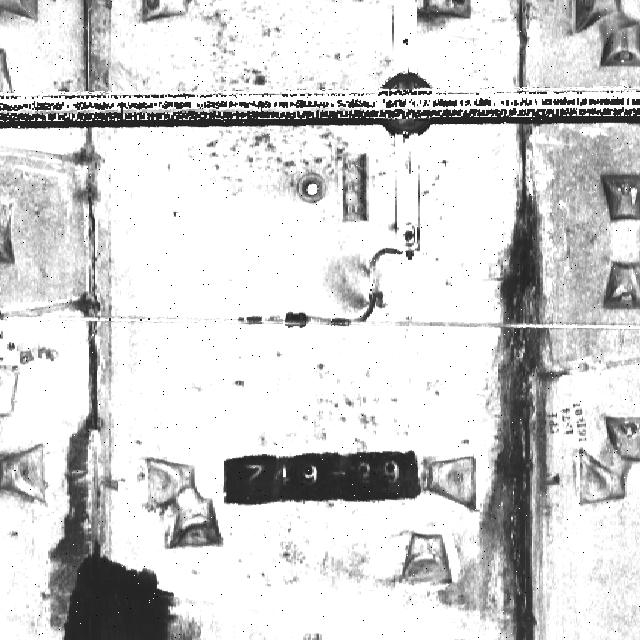leakage: (469, 169, 566, 639), (41, 321, 177, 639)
